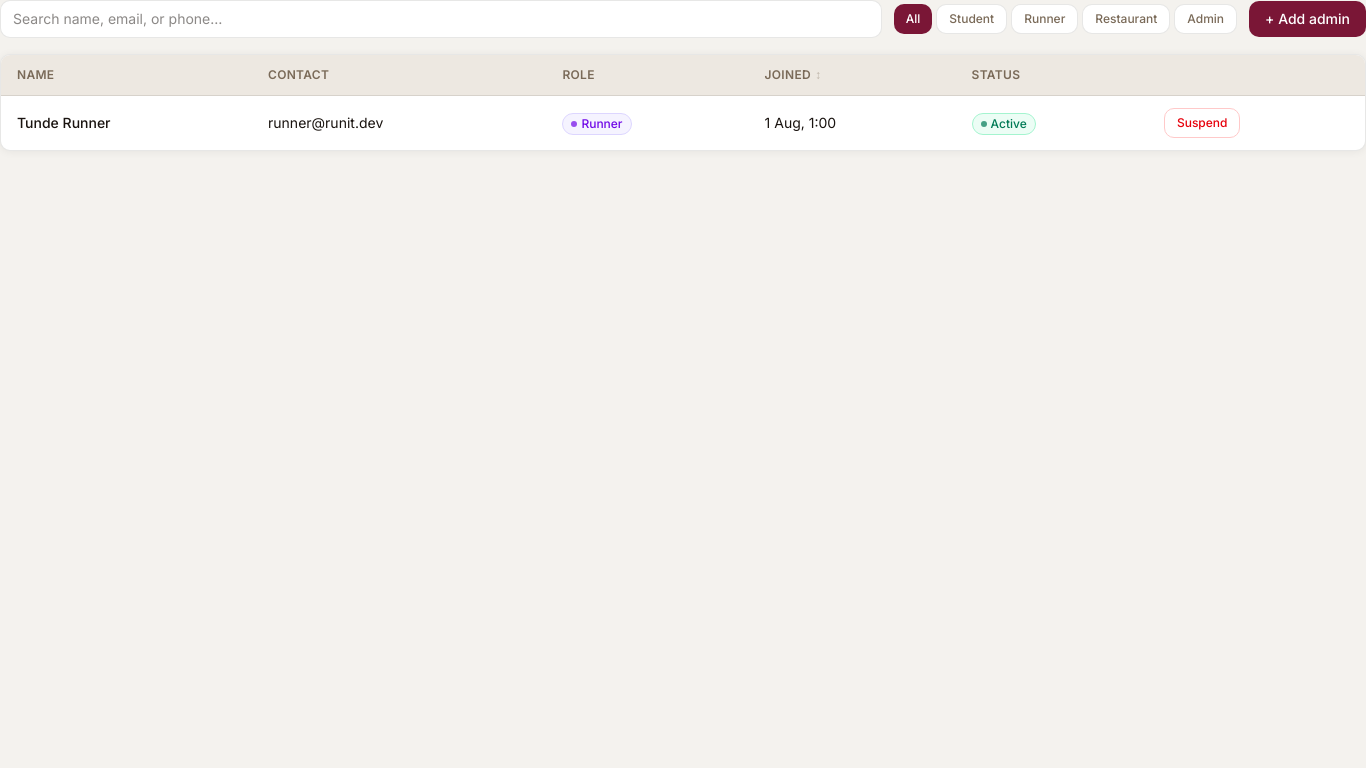
Test case: Runner cash-collection debt visibility and settlement › never shows the cash-debt section for a runner with nothing outstanding
Click the text "Tunde Runner": (64, 122) [17, 114, 110, 131]
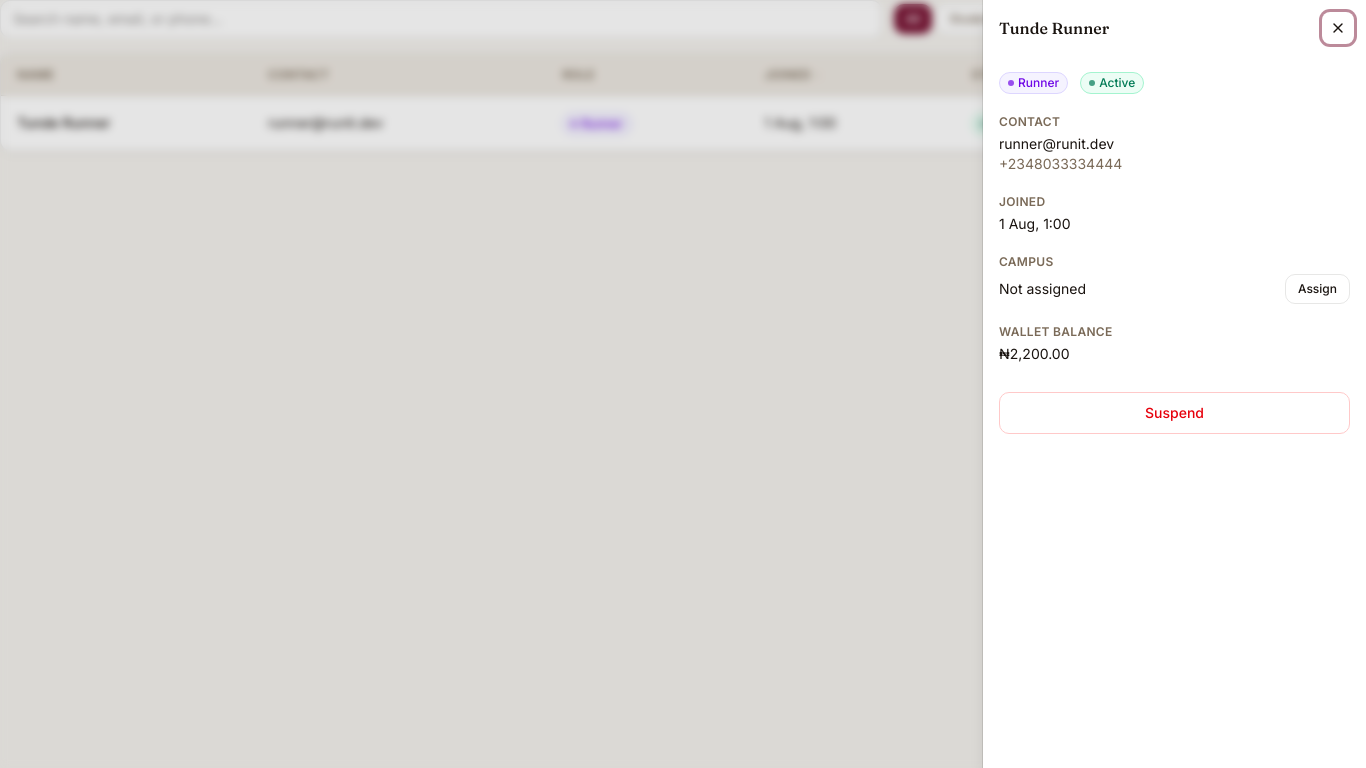
Expected: the text "Wallet balance" is shown, [999, 324, 1112, 339]
